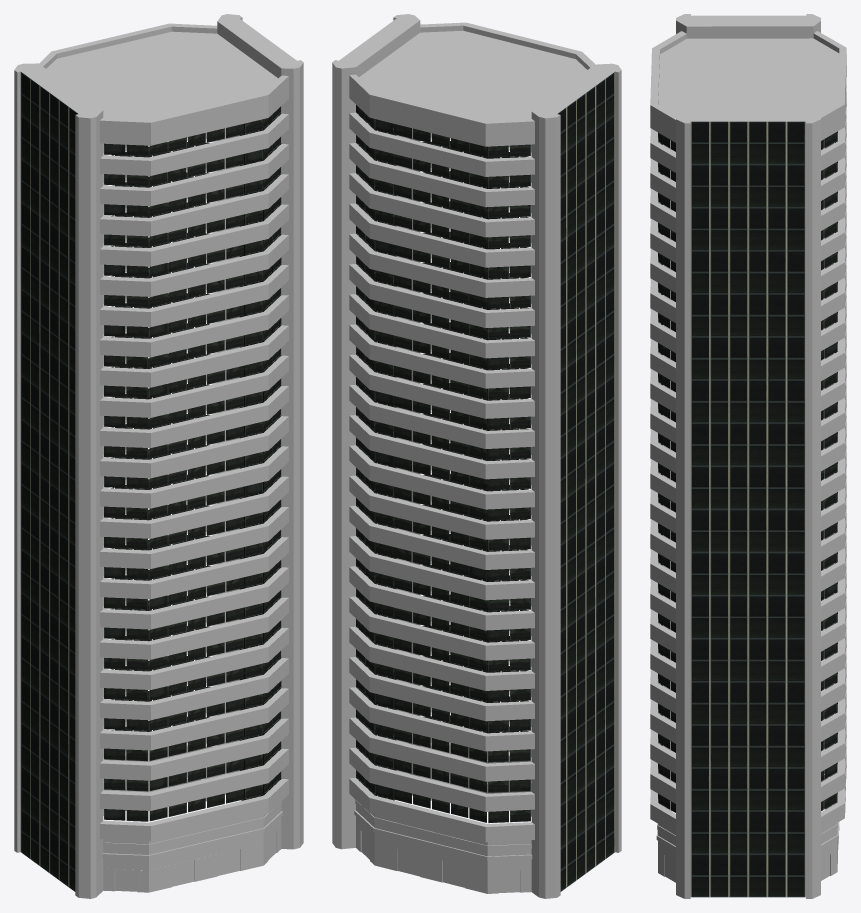
3 views of the same model, side by side, from view 1: azimuth 30°, elevation 25°; view 2: azimuth 150°, elevation 25°; view 3: azimuth 270°, elevation 25° (orthographic).
Parts seen in each view (by area): view 1: BC-063; view 2: BC-063; view 3: BC-063.
Boxes of the visible parts, x1,y1,x2,y2 form: BC-063: (14,14,303,898); BC-063: (332,14,621,898); BC-063: (650,14,846,898).
Size of what is drawn, in the model's own units: 28.19 by 93.34 by 21.42.
